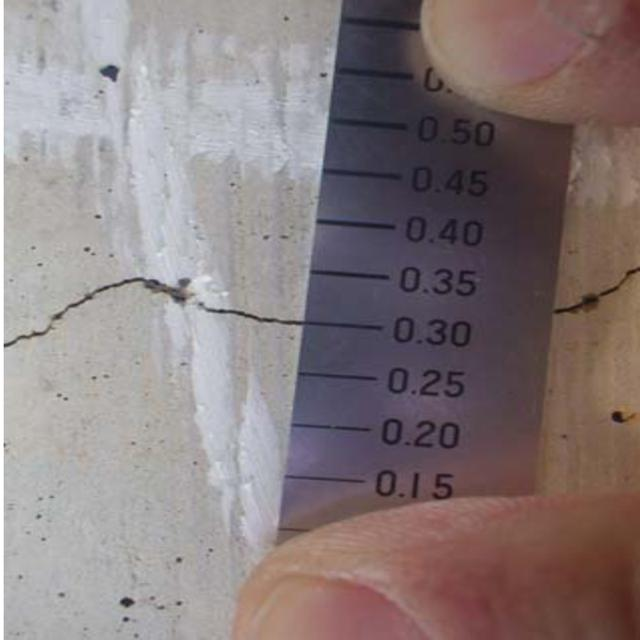crack: (13, 256, 306, 371), (556, 236, 637, 347)
